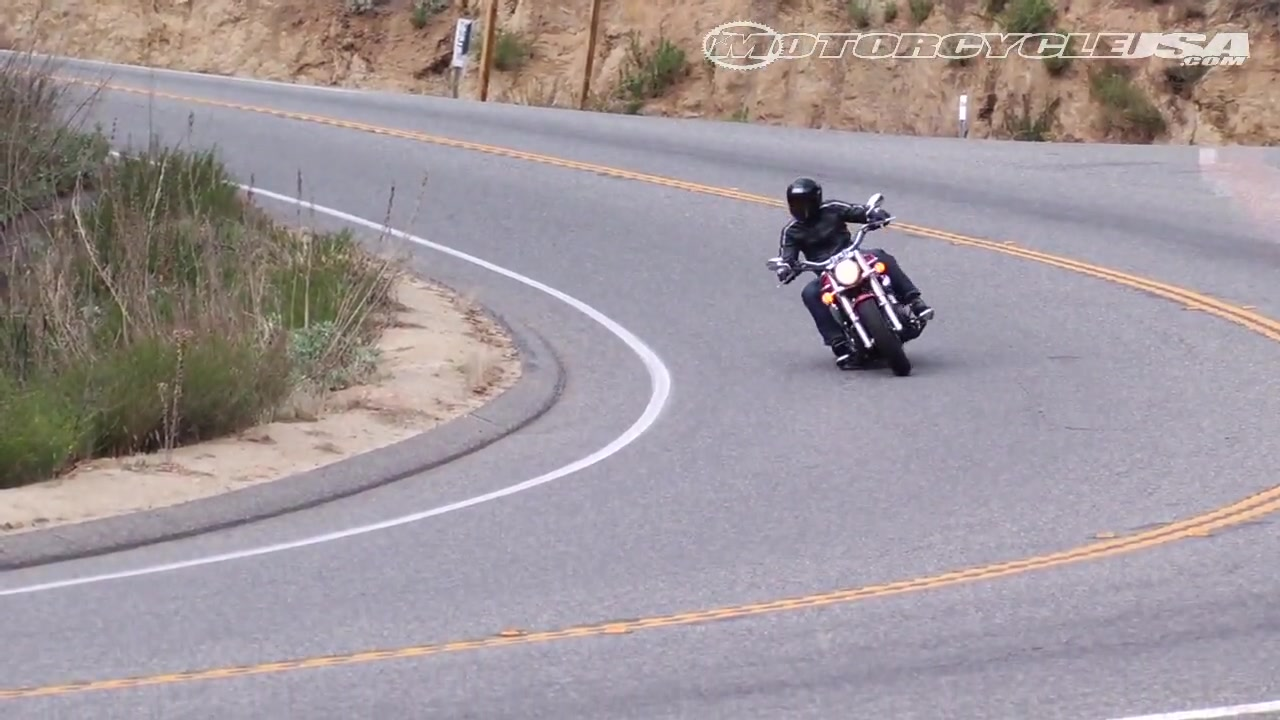motorbike: (764, 191, 937, 379)
